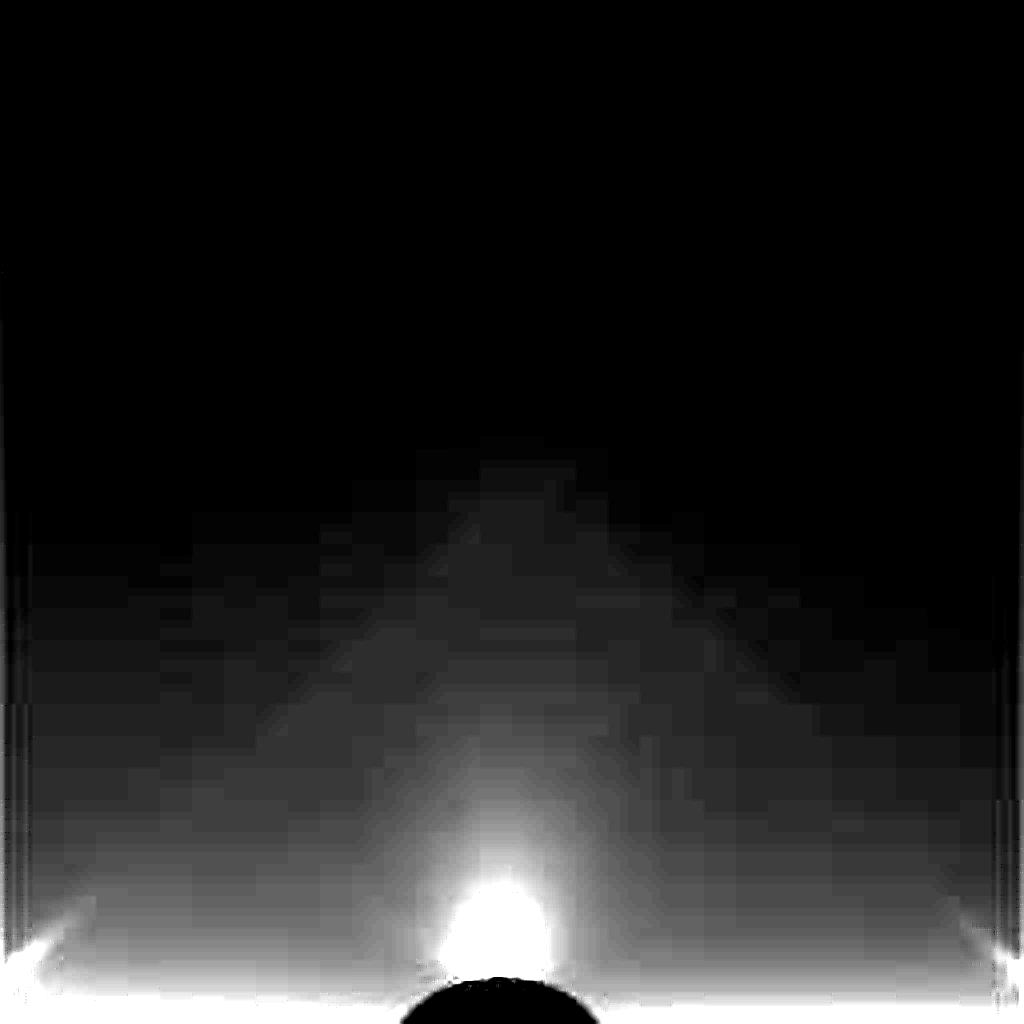plumes: (446, 876, 556, 982)
